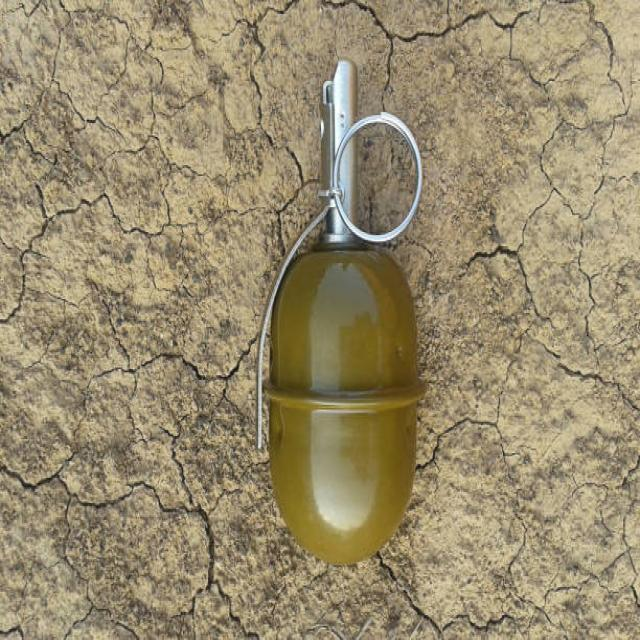grenade: (256, 64, 435, 573)
